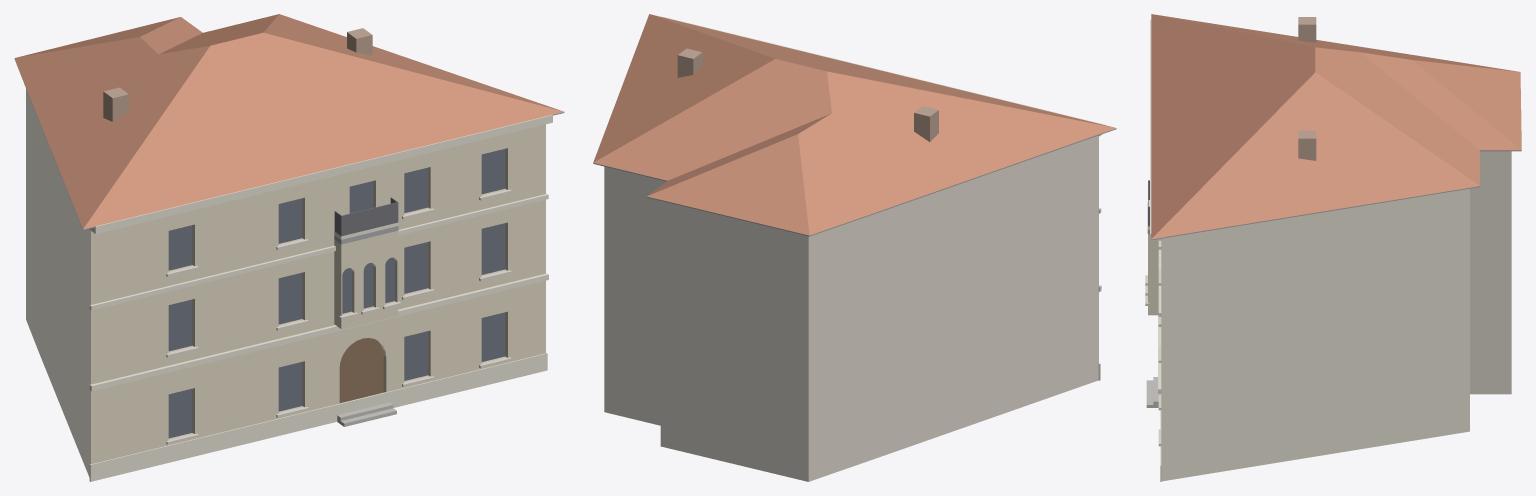
3 renders of one model, left to right at view 1: azimuth 30°, elevation 25°; view 2: azimuth 150°, elevation 25°; view 3: azimuth 270°, elevation 25°, orthographic. The views are drawn at different scales.
Parts seen in each view (by area): view 1: CP_774_Masonry, CP_774_Roof, CP_774_Cornice_main_plinth_0, CP_774_Vol_oriel_Masonry, CP_774_Cornice_main_eave_0, CP_774_Cornice_main_string1_0, CP_774_Cornice_main_string2_0, CP_774_Balcony_0_rail_f, CP_774_Chimney_0, CP_774_Chimney_1; view 2: CP_774_Masonry, CP_774_Roof, CP_774_Chimney_0, CP_774_Chimney_1, CP_774_Cornice_main_eave_0; view 3: CP_774_Masonry, CP_774_Roof, CP_774_Vol_oriel_Masonry, CP_774_Chimney_1, CP_774_Roof_EaveClosure_1, CP_774_Chimney_0, CP_774_Cornice_main_eave_0.
Boxes of the visible parts, x1,y1,x2,y2 form: CP_774_Masonry: (26, 89, 545, 477); CP_774_Roof: (14, 14, 564, 229); CP_774_Cornice_main_plinth_0: (89, 353, 547, 481); CP_774_Vol_oriel_Masonry: (334, 231, 398, 329); CP_774_Cornice_main_eave_0: (89, 115, 552, 233); CP_774_Cornice_main_string1_0: (89, 273, 548, 391); CP_774_Cornice_main_string2_0: (89, 193, 548, 310); CP_774_Balcony_0_rail_f: (341, 202, 398, 236); CP_774_Chimney_0: (103, 87, 128, 121); CP_774_Chimney_1: (347, 28, 372, 55); CP_774_Masonry: (604, 135, 1098, 481); CP_774_Roof: (593, 14, 1116, 235); CP_774_Chimney_0: (914, 106, 938, 141); CP_774_Chimney_1: (677, 48, 702, 77); CP_774_Cornice_main_eave_0: (661, 16, 1105, 136); CP_774_Masonry: (1161, 150, 1511, 481); CP_774_Roof: (1151, 14, 1521, 239); CP_774_Vol_oriel_Masonry: (1148, 234, 1158, 315); CP_774_Chimney_1: (1298, 131, 1316, 160); CP_774_Roof_EaveClosure_1: (1151, 186, 1479, 239); CP_774_Chimney_0: (1298, 17, 1316, 42); CP_774_Cornice_main_eave_0: (1150, 19, 1161, 240).
Size of the model in its own units: 23.73 by 15.45 by 16.76.
